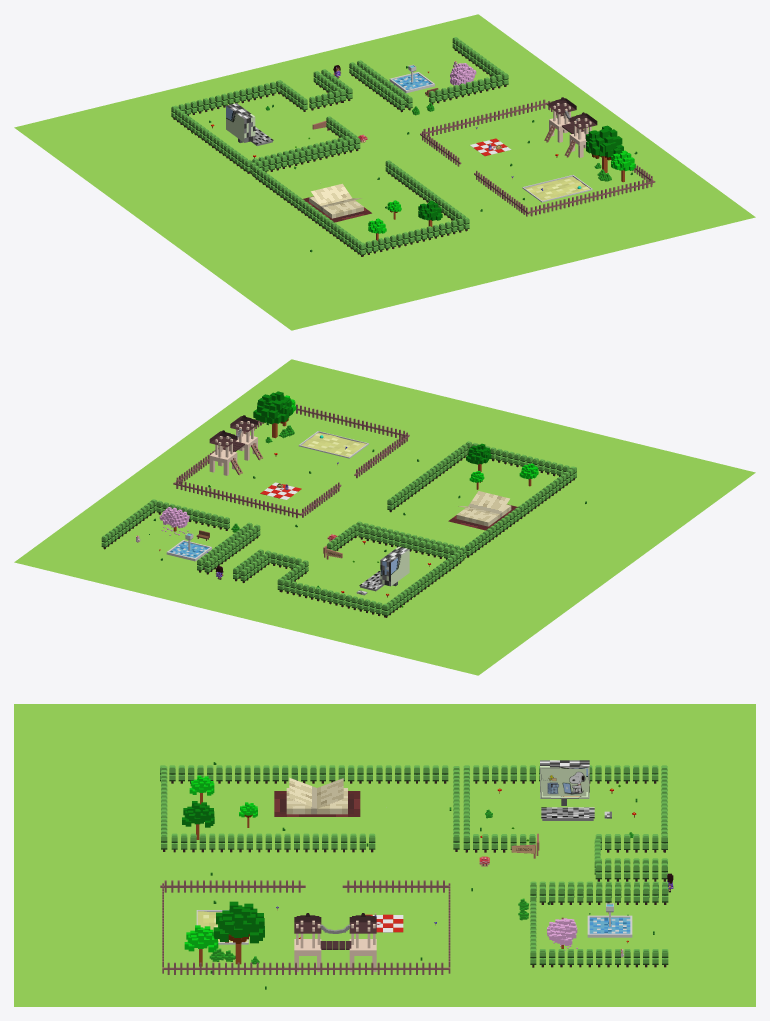
3 renders of one model, top to bottom at view 1: azimuth 30°, elevation 25°; view 2: azimuth 150°, elevation 25°; view 3: azimuth 270°, elevation 25°, orthographic. The views are drawn at different scales.
Parts seen in each view (by area): view 1: Plane, Cube.030, playground, cube_1, Cube.014, Cube.042, Cube.026, computer, Cube.027, Cube.044, Cube.083, Cube.108 (+6 smaller); view 2: Plane, playground, Cube.030, cube_1, Cube.026, Cube.028, computer, Cube.044, Cube.027, Cube.042, Cube.108, Cube.090 (+7 smaller); view 3: Plane, Cube.030, cube_1, computer, Cube.044, playground, Cube.091, Cube.027, Cube.016, Cube.084, Cube.108, Cube.043 (+11 smaller).
Part boxes in pixels (<box>): Plane: <box>14,14,755,330</box>; Cube.030: <box>253,166,365,256</box>; playground: <box>544,97,597,157</box>; cube_1: <box>302,183,371,222</box>; Cube.014: <box>250,137,360,176</box>; Cube.042: <box>360,217,469,256</box>; Cube.026: <box>173,80,282,117</box>; computer: <box>226,103,273,145</box>; Cube.027: <box>171,106,250,173</box>; Cube.044: <box>385,160,465,221</box>; Cube.083: <box>429,73,508,104</box>; Cube.108: <box>586,125,623,157</box>; Plane: <box>14,359,755,675</box>; playground: <box>209,415,262,475</box>; Cube.030: <box>465,466,576,557</box>; cube_1: <box>448,491,517,530</box>; Cube.026: <box>281,578,386,617</box>; Cube.028: <box>352,524,460,559</box>; computer: <box>359,546,409,591</box>; Cube.044: <box>387,444,467,512</box>; Cube.027: <box>383,549,463,617</box>; Cube.042: <box>465,441,573,478</box>; Cube.108: <box>253,391,292,424</box>; Cube.090: <box>173,480,300,518</box>; Plane: <box>14,704,755,1006</box>; Cube.030: <box>160,765,448,783</box>; cube_1: <box>274,777,360,816</box>; computer: <box>540,760,594,820</box>; Cube.044: <box>171,833,375,852</box>; playground: <box>294,913,376,971</box>; Cube.091: <box>164,962,448,974</box>; Cube.027: <box>463,765,667,783</box>; Cube.016: <box>530,886,668,904</box>; Cube.084: <box>530,949,668,967</box>; Cube.108: <box>213,901,264,943</box>; Cube.043: <box>587,903,632,937</box>.
Size of the model in its own units: 199 by 30.3 by 206.
108 materials, 2 textured.
